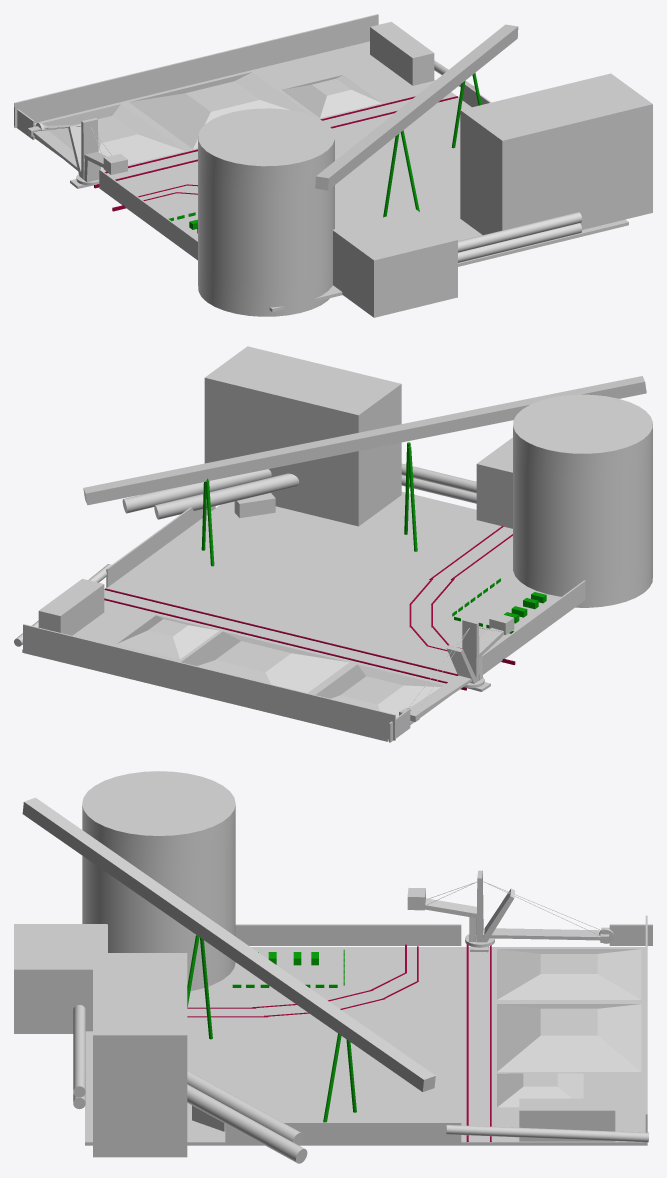
Rendered from prot_background_1.fbx.
The picture shows the model from 3 angles, top to bottom: view 1: azimuth 30°, elevation 25°; view 2: azimuth 150°, elevation 25°; view 3: azimuth 270°, elevation 25°; orthographic projection. The views are drawn at different scales.
Visible parts, largest first — view 1: Cylinder2, Cube6, Cube4, Cube10, Cube3, sand2, Cube8, sand3, reclaimer, Cube9, sand, Cube11 (+2 smaller); view 2: Cube4, Cylinder2, Cube6, Cube3, Cube8, sand2, sand3, reclaimer, Cube10, Cube9, sand, Cube11 (+9 smaller); view 3: Cube4, Cylinder2, Cube6, Cube8, sand2, Cube10, sand3, Cube11, reclaimer, Cube24, Cube9, sand (+8 smaller).
Part boxes in pixels (box(x1,y1,x2,y2)): Cylinder2: box(198, 108, 334, 316); Cube6: box(460, 73, 652, 234); Cube4: box(34, 41, 628, 312); Cube10: box(333, 209, 457, 317); Cube3: box(14, 14, 378, 127); sand2: box(129, 72, 311, 148); Cube8: box(315, 24, 518, 190); sand3: box(34, 104, 184, 170); reclaimer: box(28, 118, 127, 188); Cube9: box(370, 21, 434, 85); sand: box(282, 75, 381, 117); Cube11: box(99, 169, 197, 260); Cube4: box(22, 491, 560, 741); Cylinder2: box(513, 394, 652, 607); Cube6: box(204, 346, 401, 526); Cube3: box(23, 624, 395, 740); Cube8: box(83, 376, 646, 505); sand2: box(181, 631, 348, 692); sand3: box(315, 664, 443, 717); reclaimer: box(399, 613, 514, 721); Cube10: box(476, 437, 512, 528); Cube9: box(38, 579, 104, 635); sand: box(117, 615, 218, 659); Cube11: box(482, 580, 585, 674); Cube4: box(85, 947, 647, 1145); Cylinder2: box(82, 771, 235, 991); Cube6: box(93, 953, 187, 1157); Cube8: box(22, 797, 435, 1091); sand2: box(497, 1004, 641, 1071); Cube10: box(14, 924, 107, 1033); sand3: box(497, 949, 641, 999); Cube11: box(235, 924, 461, 945); reclaimer: box(407, 870, 613, 952); Cube24: box(225, 1122, 461, 1143); Cube9: box(519, 1098, 615, 1141); sand: box(497, 1073, 583, 1107).
Size of the model in its own units: 15095 by 16638 by 4935.
